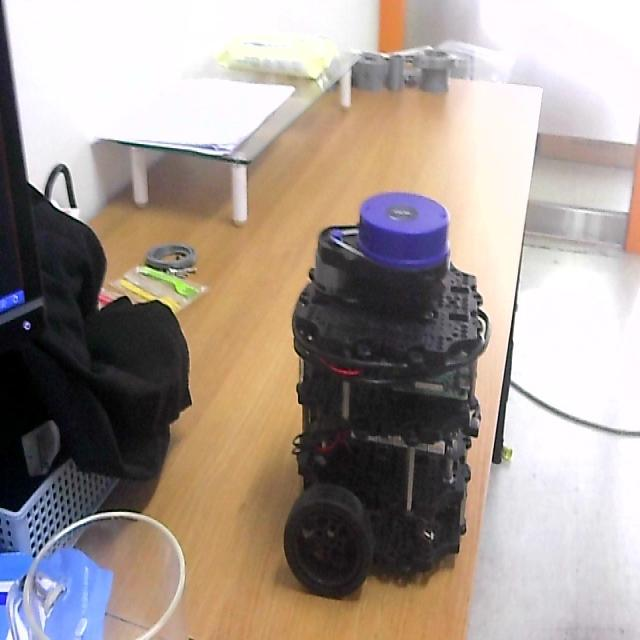turtle: (282, 188, 494, 602)
